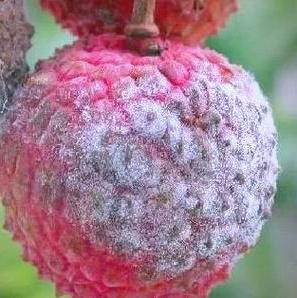Frost_Blight: (78, 70, 268, 251)
